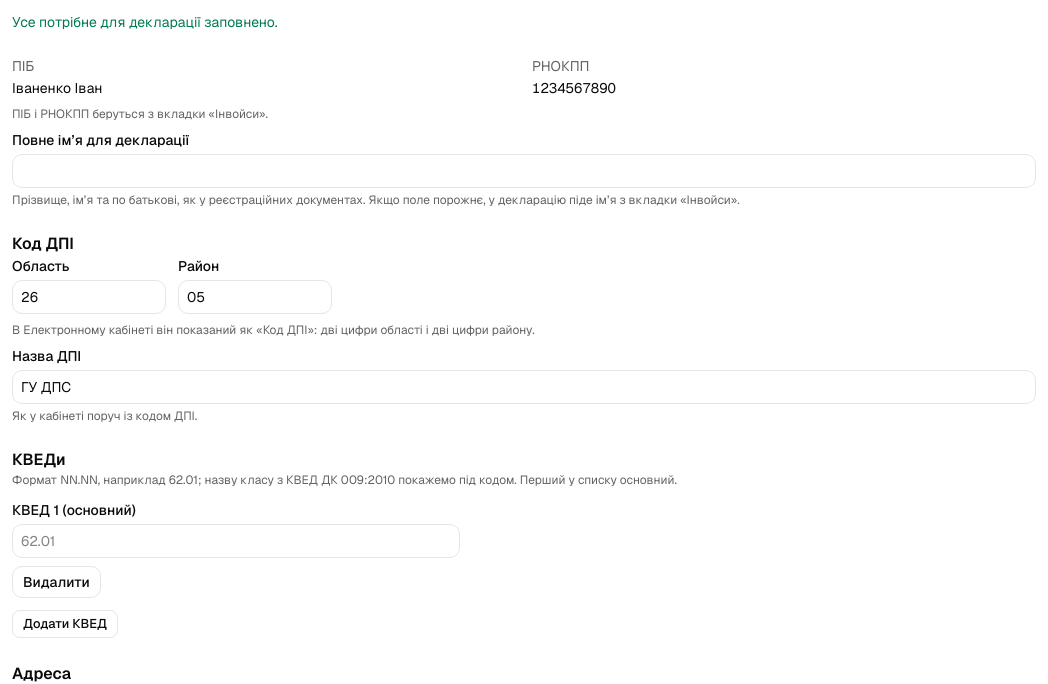
Test: DeclarationDetailsForm KVED names in uk › shows the name of a code as it is typed and nothing for an unfinished one
This screenshot has width=1048, height=684.
Type "85.5" into the field labelled "КВЕД 1 (основний)" at (236, 541), box [12, 524, 460, 558]
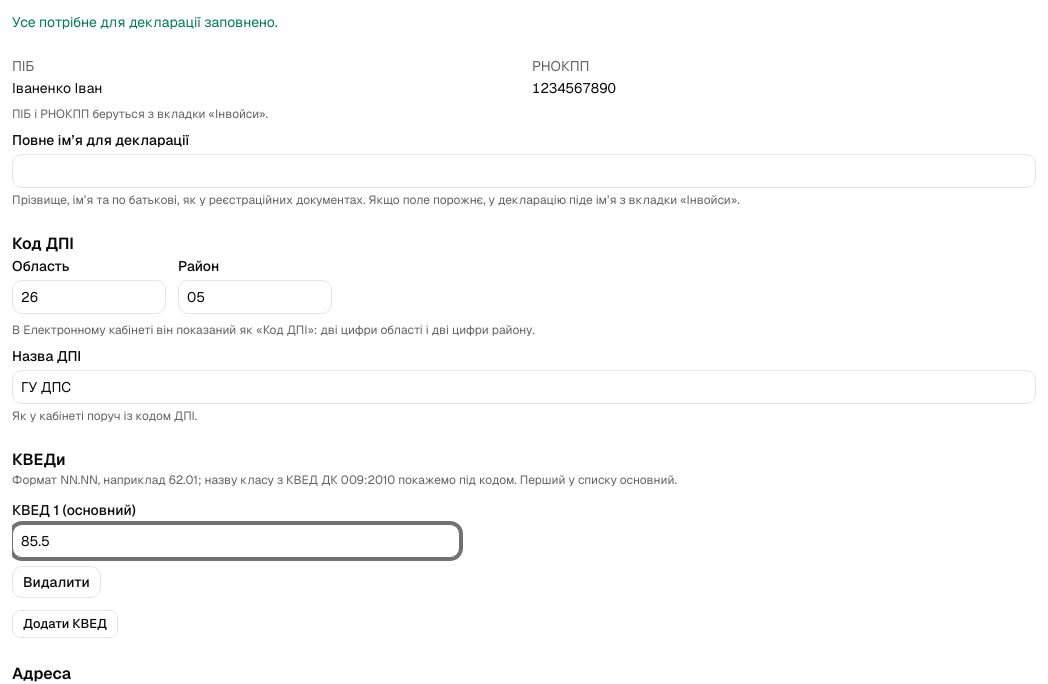
Check: the text "Інші види освіти, н.в.і.у." is not shown
Type "9" into the field labelled "КВЕД 1 (основний)" at (236, 541), box [12, 524, 460, 558]
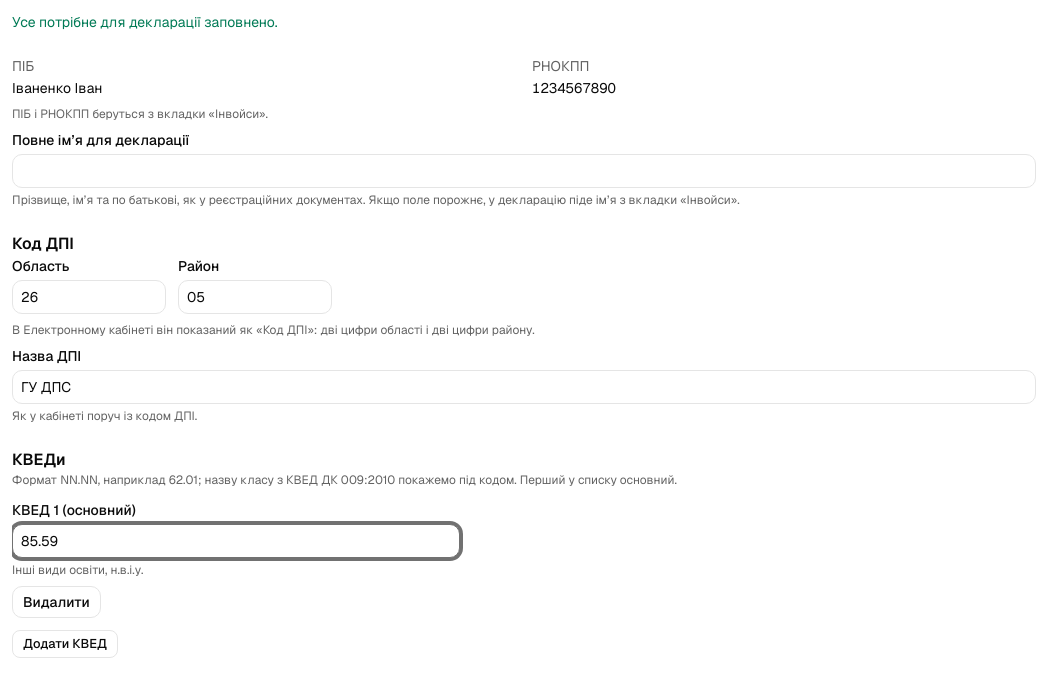
Check: the text "Інші види освіти, н.в.і.у." is shown, box [12, 562, 144, 578]
